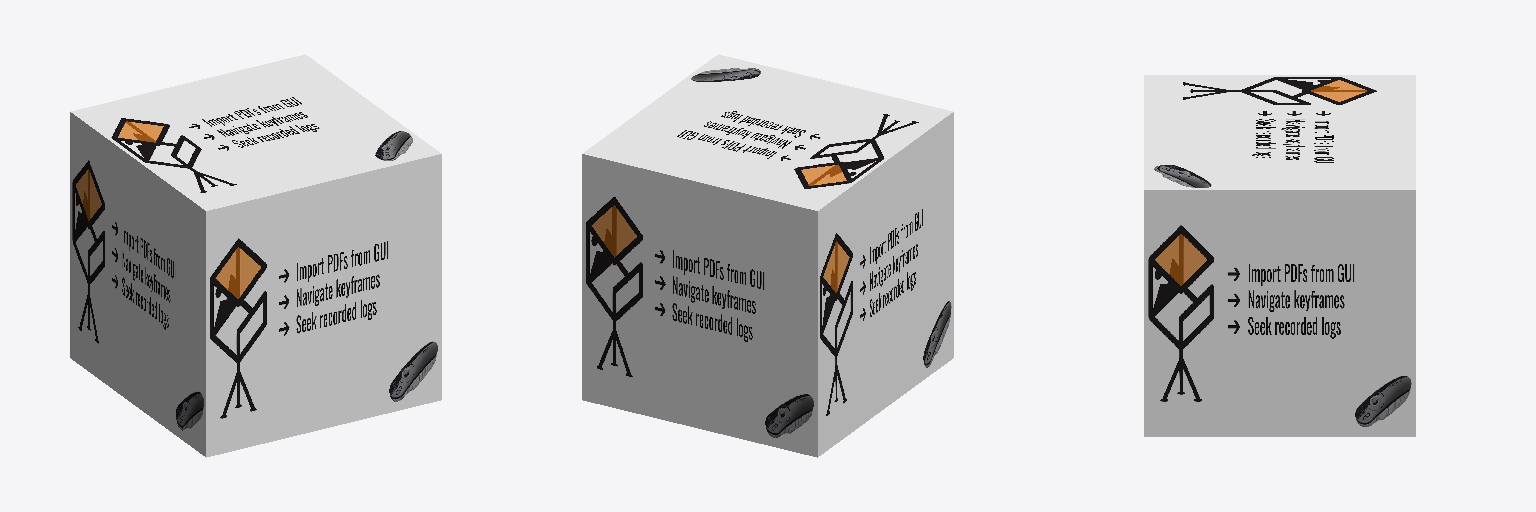
The picture shows the model from 3 angles: view 1: azimuth 30°, elevation 25°; view 2: azimuth 150°, elevation 25°; view 3: azimuth 270°, elevation 25°; orthographic projection.
Visible parts, largest first — view 1: demo_slide-3; view 2: demo_slide-3; view 3: demo_slide-3.
Boxes of the visible parts, <box> form: demo_slide-3: <box>70,54,441,457</box>; demo_slide-3: <box>582,54,953,457</box>; demo_slide-3: <box>1144,75,1415,436</box>.
Size of the model in its own units: 1 by 1 by 1.
Materials: 1 (1 with a texture image).